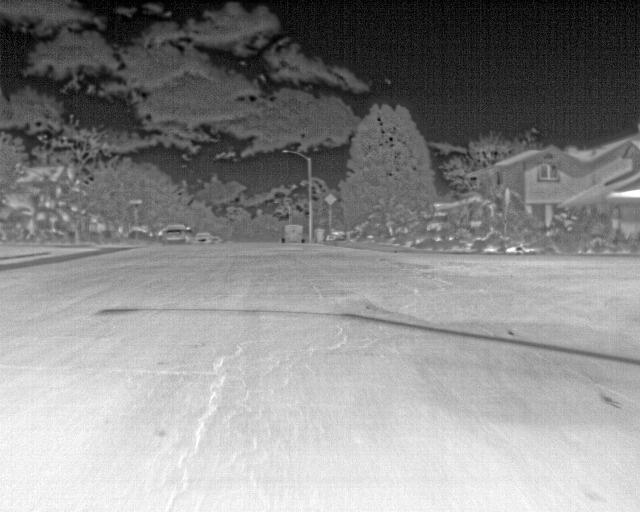car: (280, 222, 307, 243), (158, 225, 185, 244), (193, 232, 215, 245)
